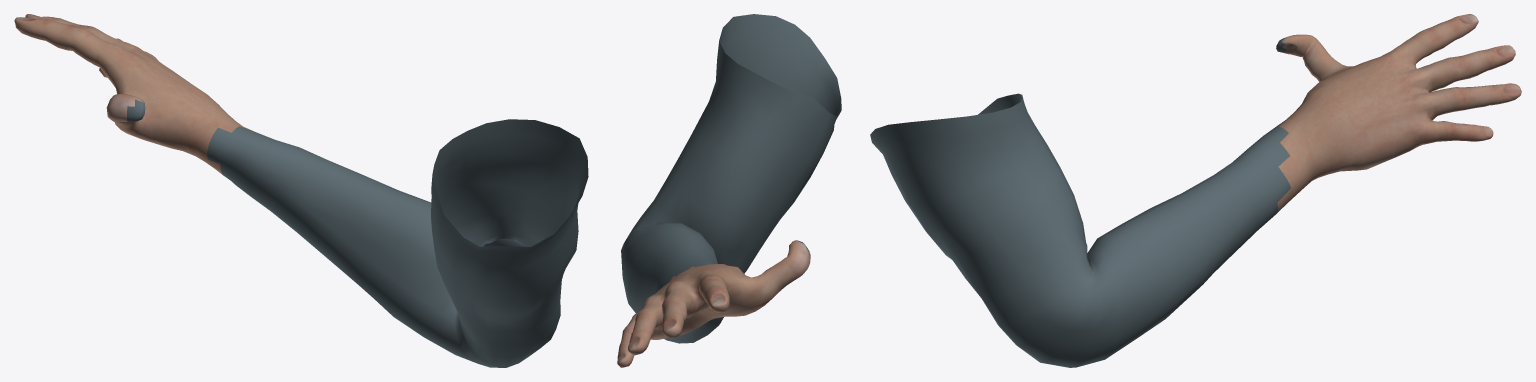
File: fps-hands-para-cc0.glb
The picture shows the model from 3 angles, left to right: view 1: azimuth 30°, elevation 25°; view 2: azimuth 150°, elevation 25°; view 3: azimuth 270°, elevation 25°; orthographic projection. The views are drawn at different scales.
Visible parts, largest first — view 1: Right anatomical arm; view 2: Right anatomical arm; view 3: Right anatomical arm.
Boxes of the visible parts, x1,y1,x2,y2 form: Right anatomical arm: (14,14,588,367); Right anatomical arm: (617,14,841,367); Right anatomical arm: (870,14,1521,367).
Bounding box in the file's own units: 0.3226 × 0.2653 × 0.6173.
2 materials, 1 textured.
